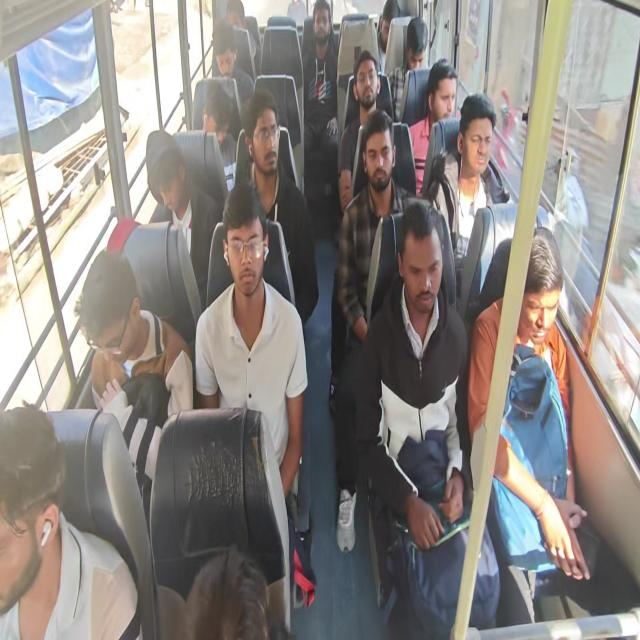person: (0, 412, 68, 601), (83, 265, 140, 359), (139, 127, 189, 217), (398, 224, 441, 326), (221, 202, 270, 290), (512, 242, 558, 332), (196, 80, 232, 139), (247, 106, 280, 169), (465, 106, 494, 177), (362, 130, 394, 186), (212, 33, 246, 84), (429, 65, 455, 118), (219, 2, 254, 38), (405, 24, 427, 80), (353, 58, 377, 102), (381, 3, 400, 48), (312, 10, 329, 44)
